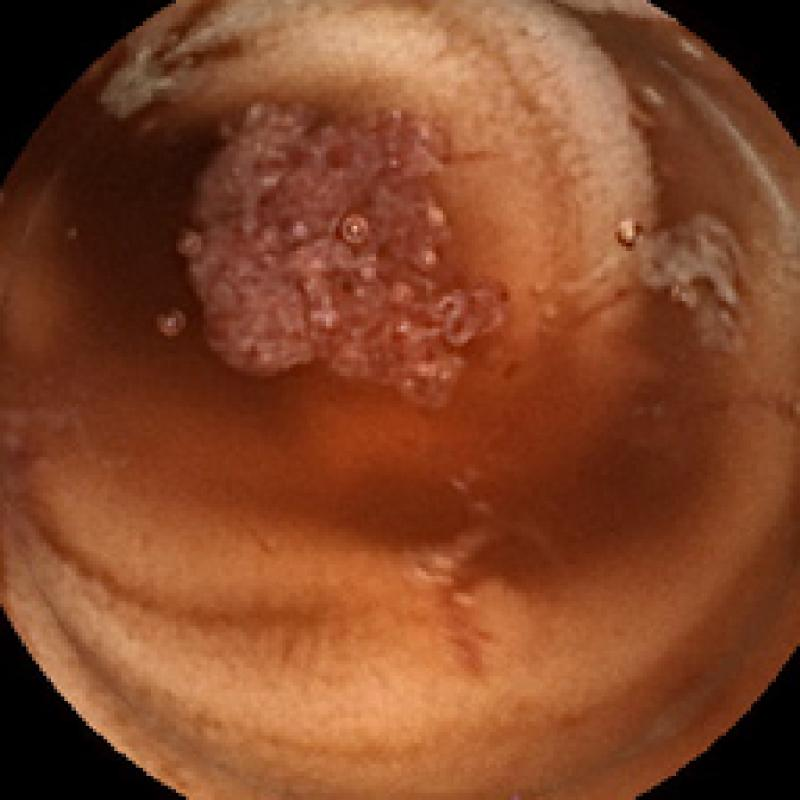bleeding: (193, 100, 482, 393)
